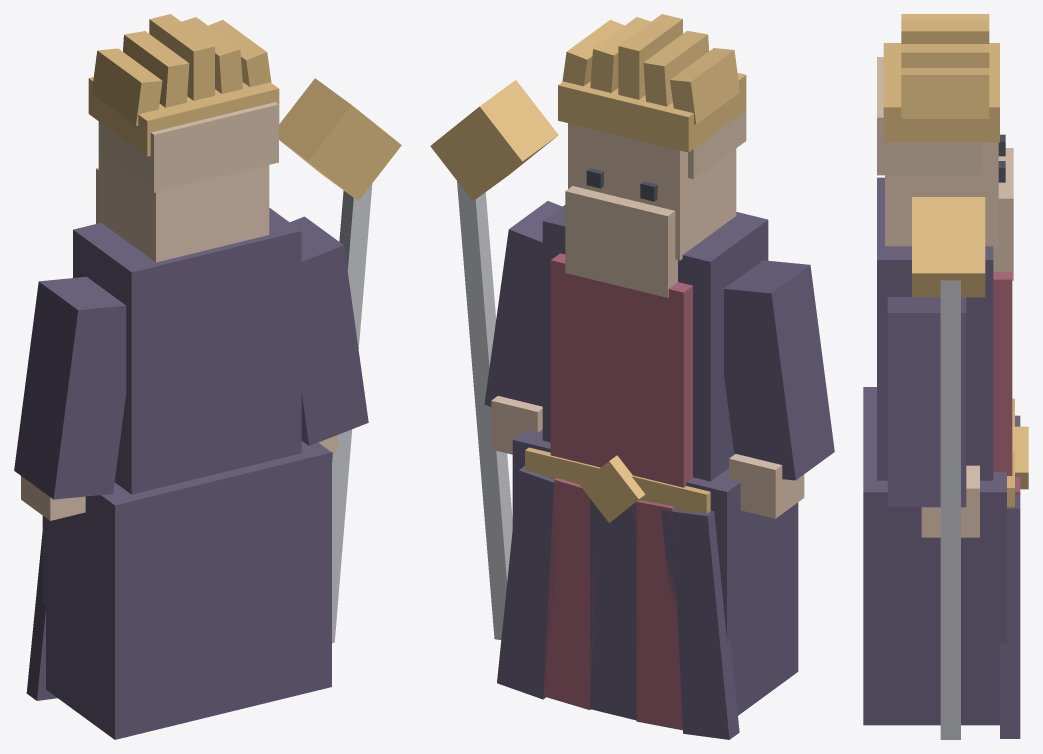
The model's file is castle_lord.glb.
The picture shows the model from 3 angles, left to right: view 1: azimuth 30°, elevation 25°; view 2: azimuth 150°, elevation 25°; view 3: azimuth 270°, elevation 25°; orthographic projection.
Visible parts, largest first — view 1: Moonpost Castle Lord; view 2: Moonpost Castle Lord; view 3: Moonpost Castle Lord.
Boxes of the visible parts, x1,y1,x2,y2 form: Moonpost Castle Lord: (14,14,401,739); Moonpost Castle Lord: (430,14,834,739); Moonpost Castle Lord: (863,14,1028,739).
Bounding box in the file's own units: 3.06 × 5.39 × 1.22.
